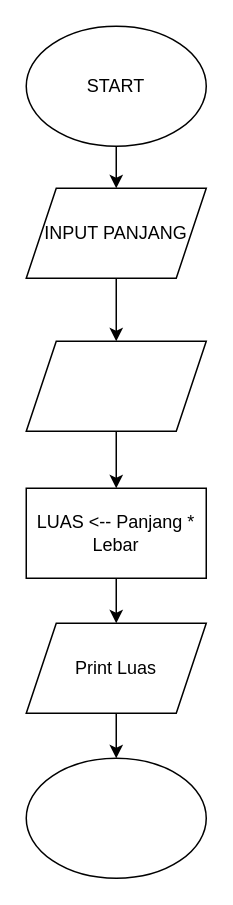
Image size: 233x905. Some labels were removed from this diagram. The shapes that lost their labels are listed below. From the top down, each one's centre as x and y in pixels, then its label:
(x=115, y=385): INPUT LEBAR
(x=115, y=817): Finish
